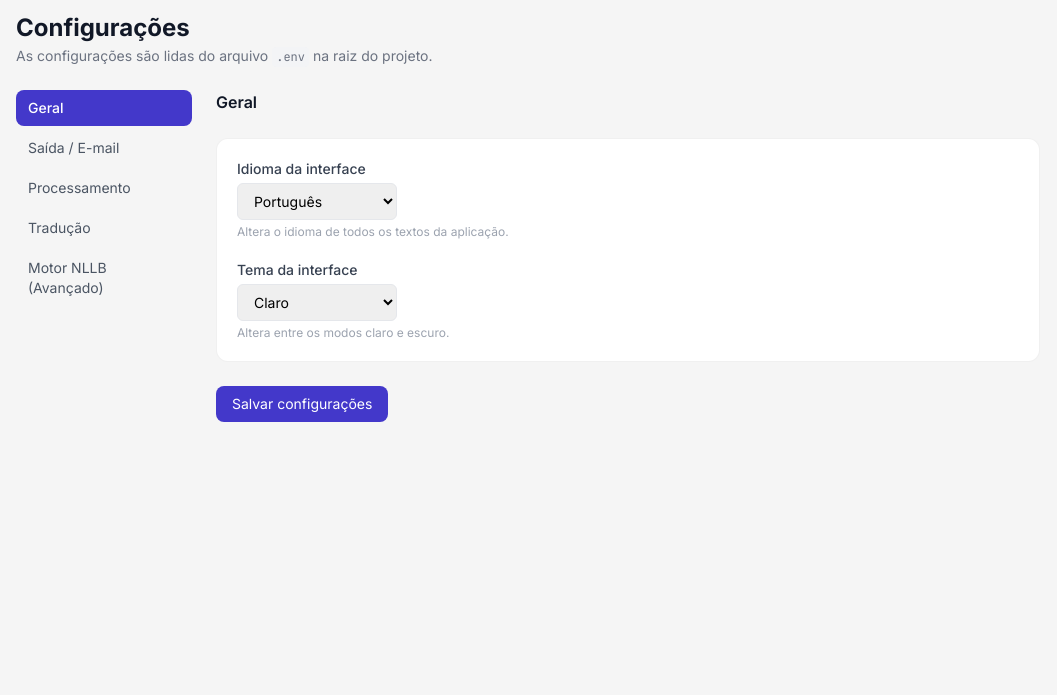
Test: ConfigPage — painel NLLB (Fase C) › exibe seletores de modelo e device quando nllb_enabled=true
Click the button "Motor NLLB (Avançado)". click: (104, 278)
box: [16,250,192,306]
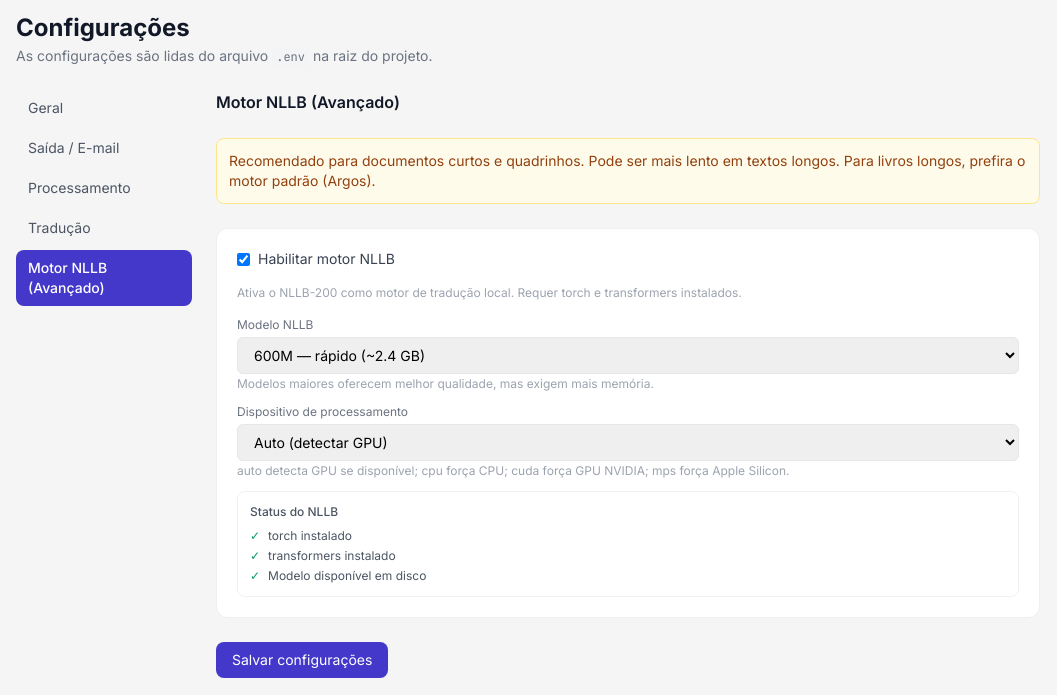
Now the dropdown labelled "Modelo NLLB" is shown, box [237,337,1019,374]
Now the dropdown labelled "Dispositivo de processamento" is shown, box [237,424,1019,461]
